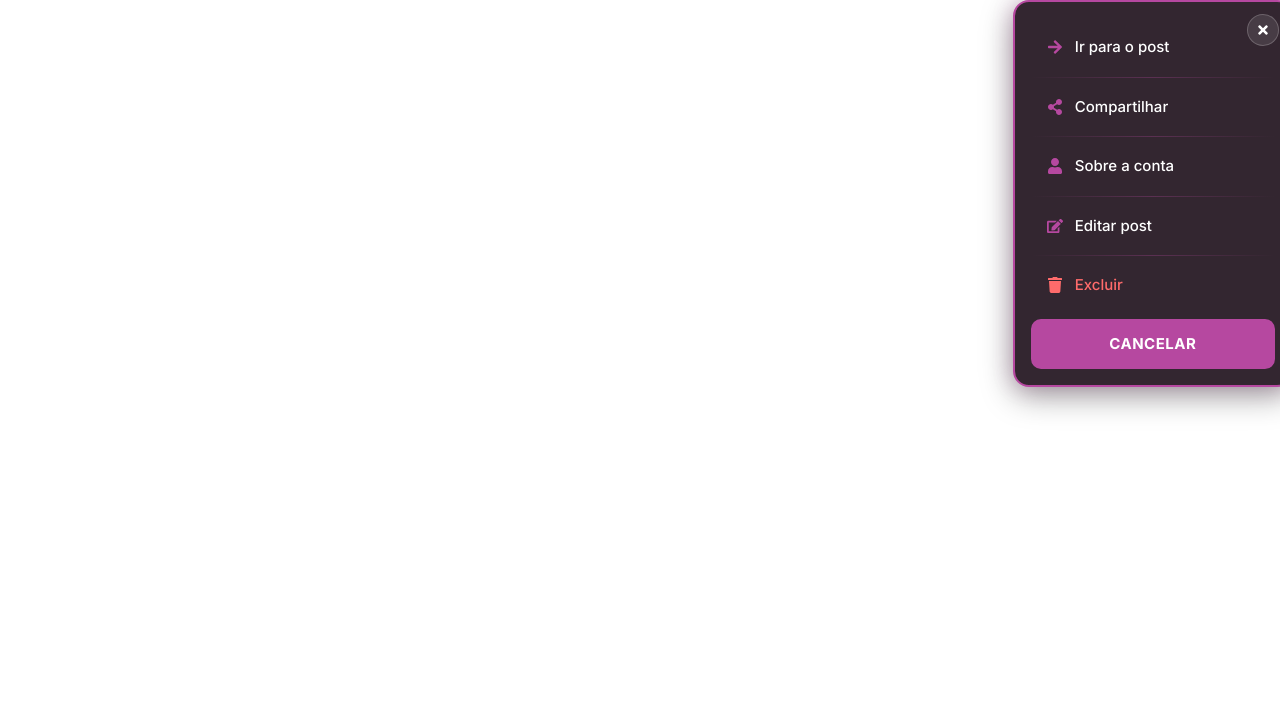
Test: PostModal › deve cancelar exclusão ao clicar em Cancelar
This screenshot has width=1280, height=720.
Click the button "Excluir".
click(1153, 285)  # box 1031,260 -> 1275,310
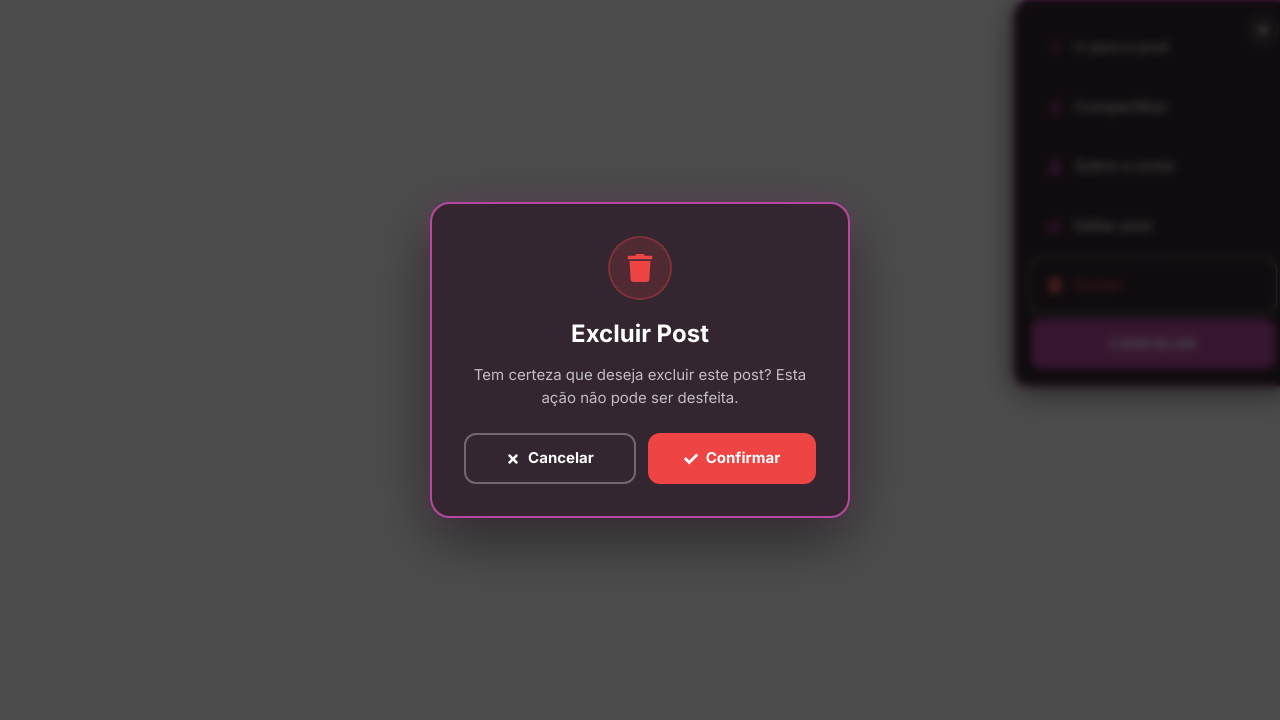
Now the heading "Excluir Post" is shown, box 571,319 -> 709,348
Click the button "Cancelar".
click(550, 459)  # box 464,433 -> 636,484
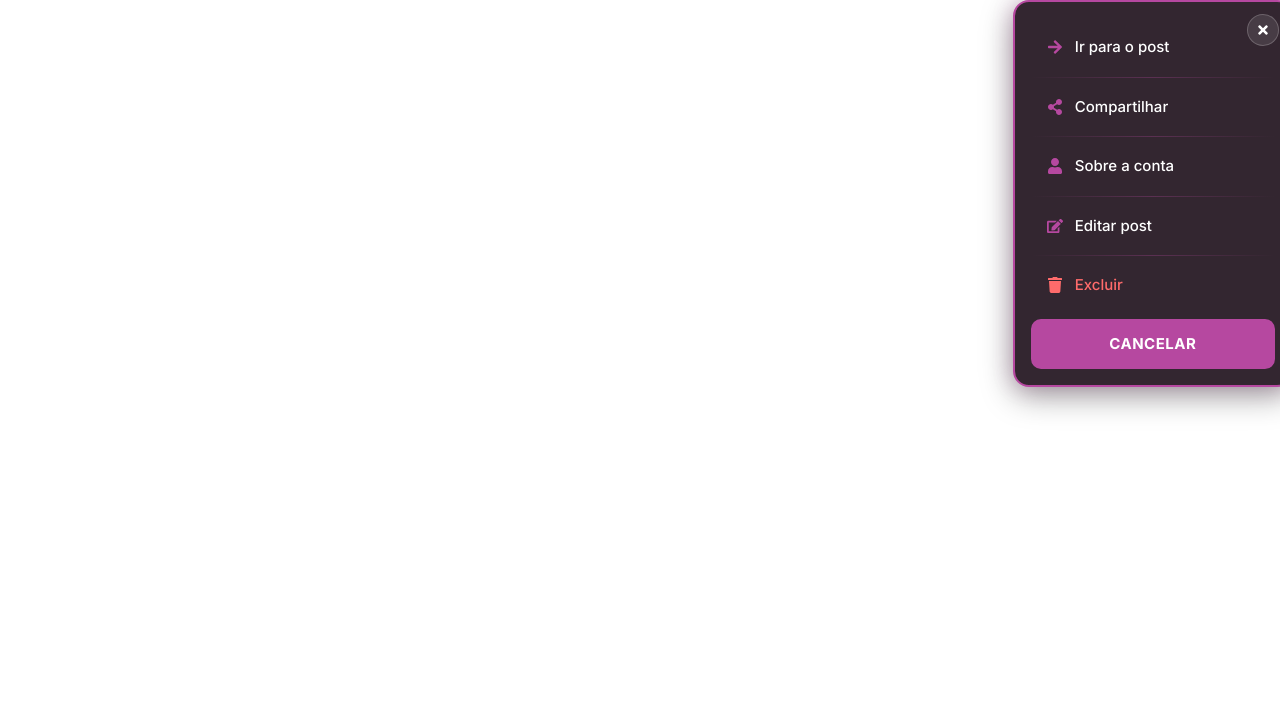
Now the heading "Excluir Post" is gone
